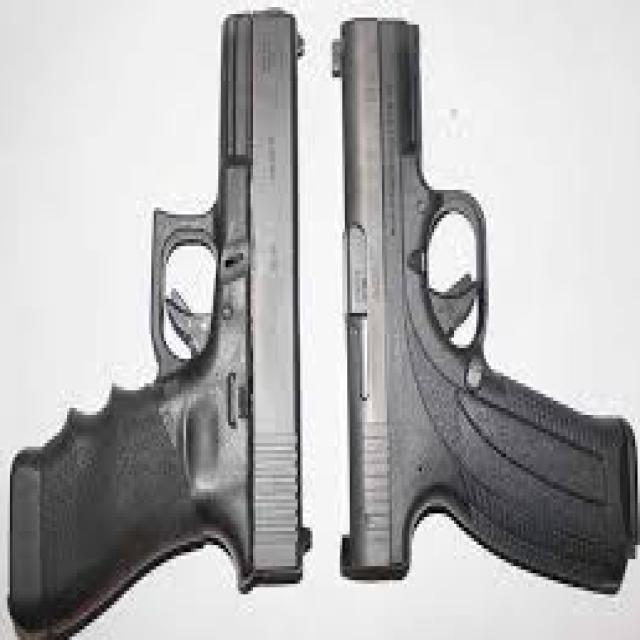Gun: (0, 0, 318, 640), (322, 0, 639, 608)
